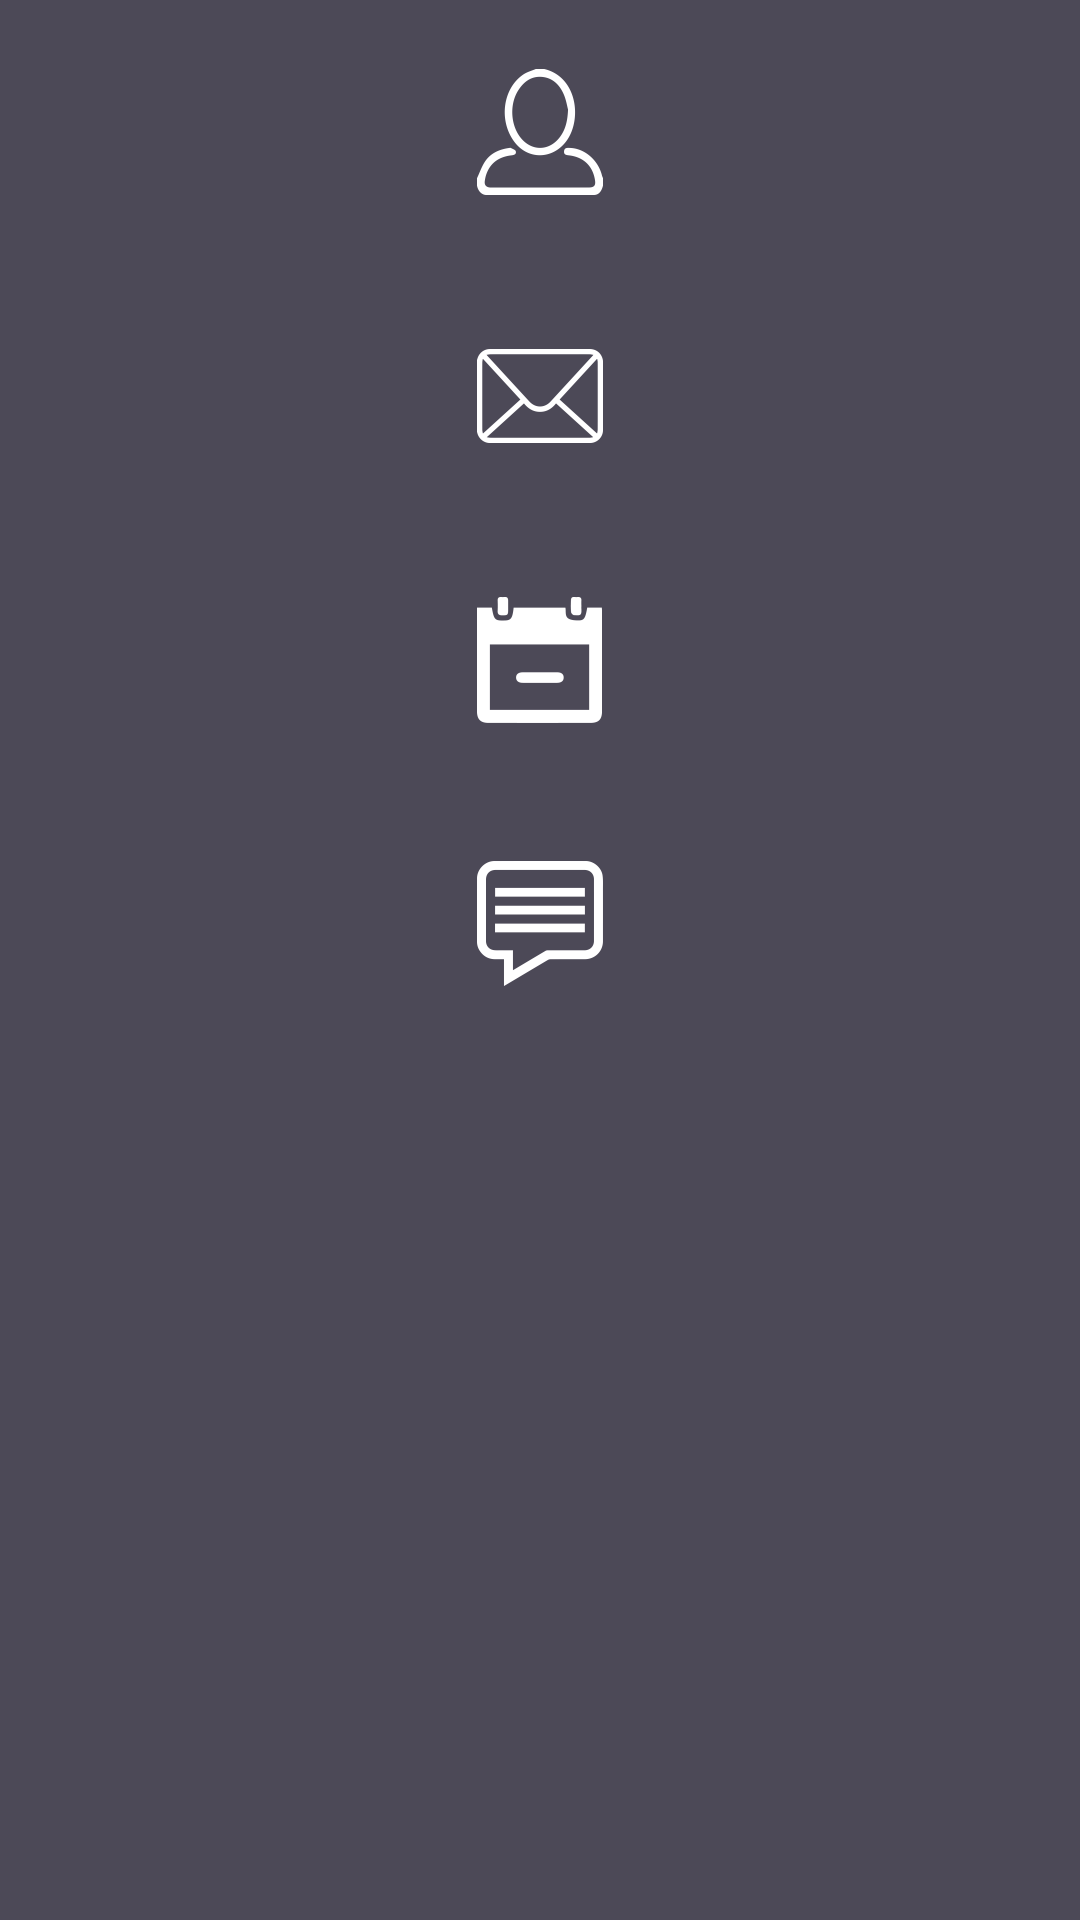

Where icons sit on this 1080 × 1920 app screen, as {"left": x1, "top": y1, "right": x2, "bottom": y2}:
days: {"left": 477, "top": 597, "right": 602, "bottom": 723}
